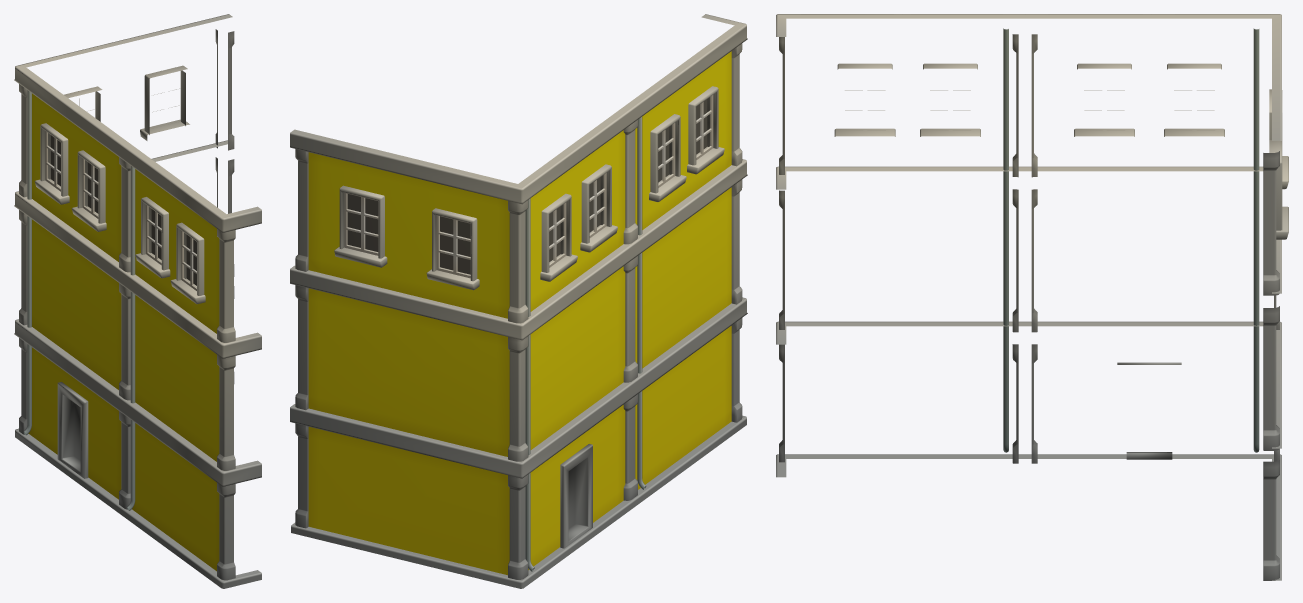
File: Apartments03.glb
3 renders of one model, left to right at view 1: azimuth 30°, elevation 25°; view 2: azimuth 150°, elevation 25°; view 3: azimuth 270°, elevation 25°, orthographic. The views are drawn at different scales.
Visible parts, largest first — view 1: Apartments03; view 2: Apartments03; view 3: Apartments03.
Boxes of the visible parts, x1=… form: Apartments03: x1=14, y1=14, x2=261, y2=588; Apartments03: x1=290, y1=14, x2=747, y2=588; Apartments03: x1=776, y1=14, x2=1288, y2=580.
Size of the model in its own units: 10.6 by 17.16 by 17.79.
2 materials, 1 textured.
